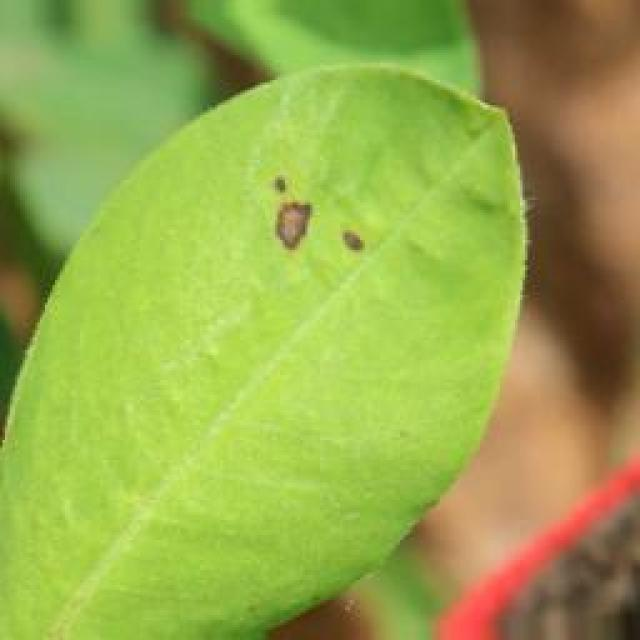Sigatoka: (249, 172, 386, 284)
